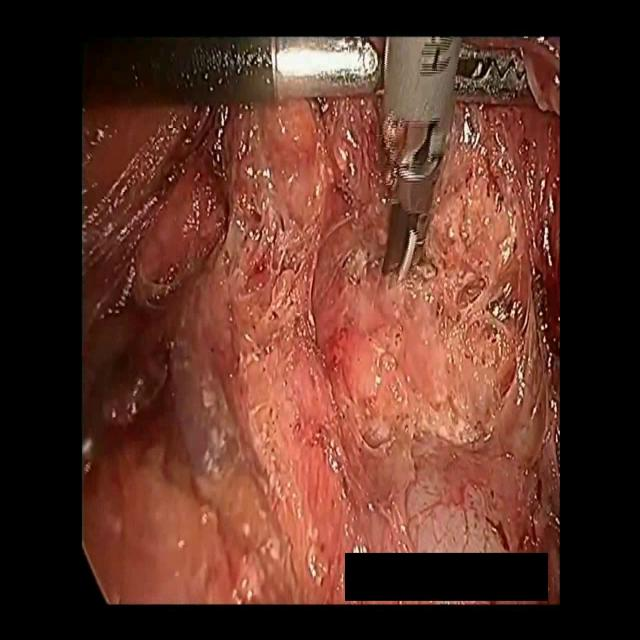surgical-area: (82, 36, 560, 604)
surgical-tool: (84, 36, 379, 112), (380, 37, 464, 288), (454, 37, 560, 119)
